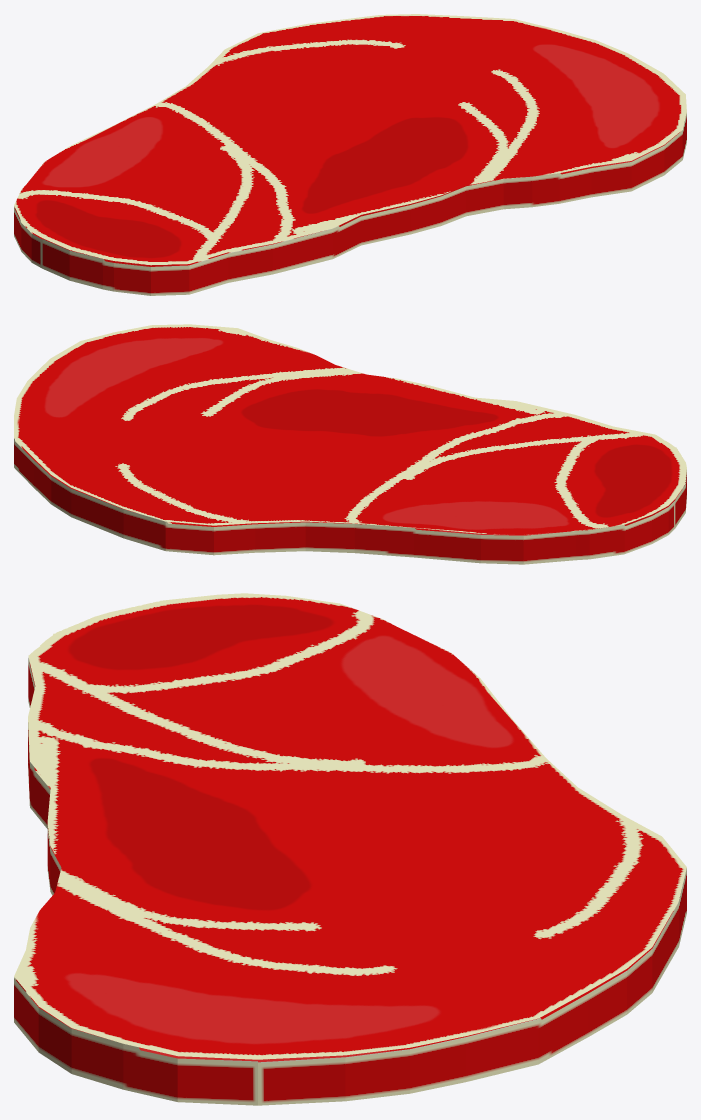
The model's file is pork_lowpoly.FBX.
3 renders of one model, top to bottom at view 1: azimuth 30°, elevation 25°; view 2: azimuth 150°, elevation 25°; view 3: azimuth 270°, elevation 25°, orthographic. The views are drawn at different scales.
Visible parts, largest first — view 1: pork; view 2: pork; view 3: pork.
Boxes of the visible parts, x1,y1,x2,y2 form: pork: (14, 14, 686, 295); pork: (14, 324, 686, 564); pork: (14, 593, 686, 1105).
Bounding box in the file's own units: 28.11 × 1.29 × 17.14.
Materials: 1 (1 with a texture image).
